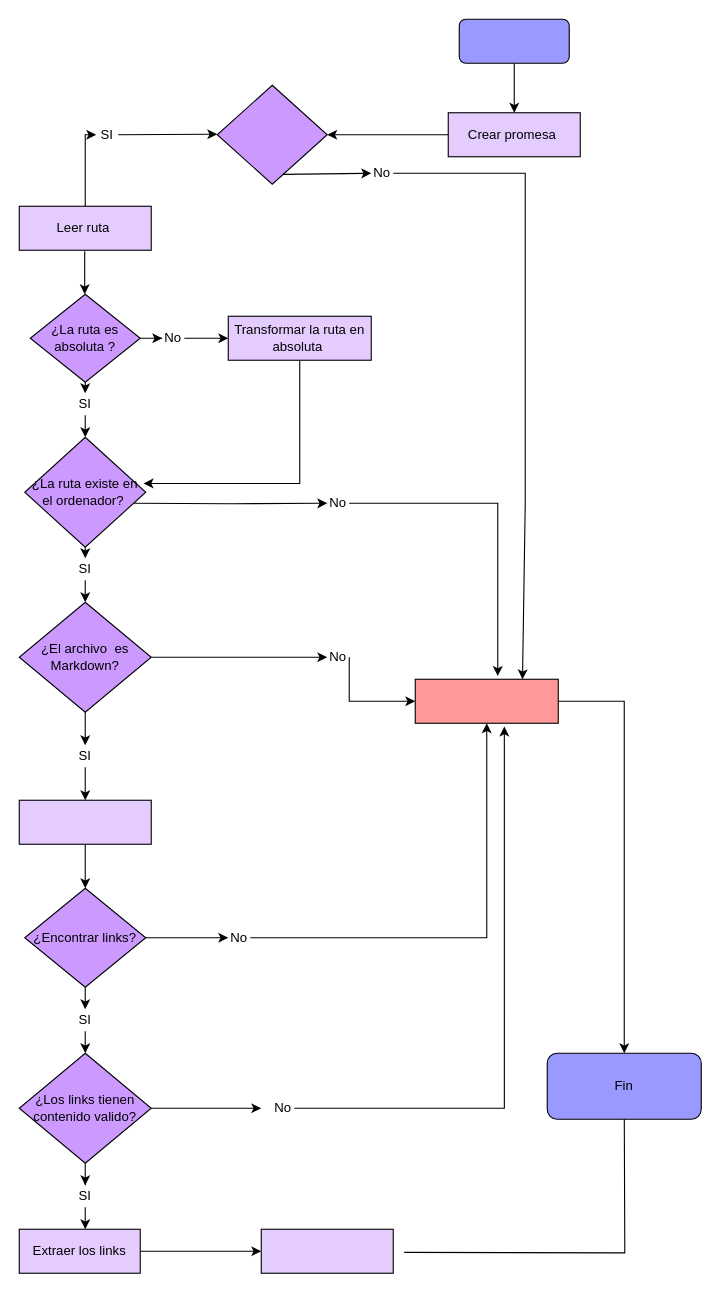
Image size: 721x1293. Some labels were removed from this diagram. Here are the shapes that lost their labels. From the top down, the centre of each, then its label:
At pixel 513 40: "Inicio".
At pixel 271 134: "¿La ruta existe?".
At pixel 486 700: "Mensaje de error".
At pixel 84 821: "Leer el contenido".
At pixel 326 1250: "Devolver arreglo con los links".
